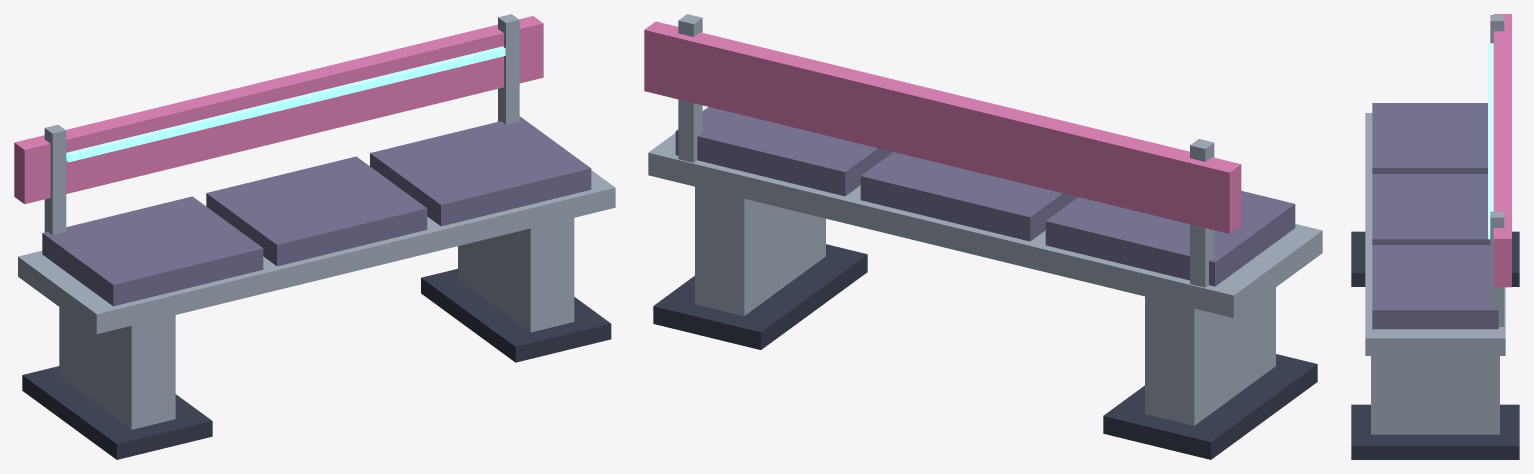
Rendered from neon-dispatch-cantilever-transit-bench__178.glb.
3 renders of one model, left to right at view 1: azimuth 30°, elevation 25°; view 2: azimuth 150°, elevation 25°; view 3: azimuth 270°, elevation 25°, orthographic. The views are drawn at different scales.
Parts seen in each view (by area): view 1: shell, metal, accent, dark, light; view 2: metal, accent, shell, dark; view 3: shell, metal, dark, accent, light.
Part boxes in pixels (x1=…): shell: x1=42, y1=116, x2=591, y2=306; metal: x1=18, y1=14, x2=615, y2=429; accent: x1=14, y1=16, x2=543, y2=204; dark: x1=22, y1=269, x2=611, y2=459; light: x1=66, y1=46, x2=505, y2=162; metal: x1=648, y1=14, x2=1322, y2=425; accent: x1=644, y1=21, x2=1241, y2=233; shell: x1=675, y1=107, x2=1295, y2=286; dark: x1=653, y1=244, x2=1317, y2=459; shell: x1=1372, y1=103, x2=1498, y2=329; metal: x1=1365, y1=15, x2=1505, y2=434; dark: x1=1351, y1=231, x2=1519, y2=459; accent: x1=1493, y1=14, x2=1511, y2=287; light: x1=1488, y1=43, x2=1493, y2=239.
Bounding box in the file's own units: 1.9 × 0.93 × 0.6.
